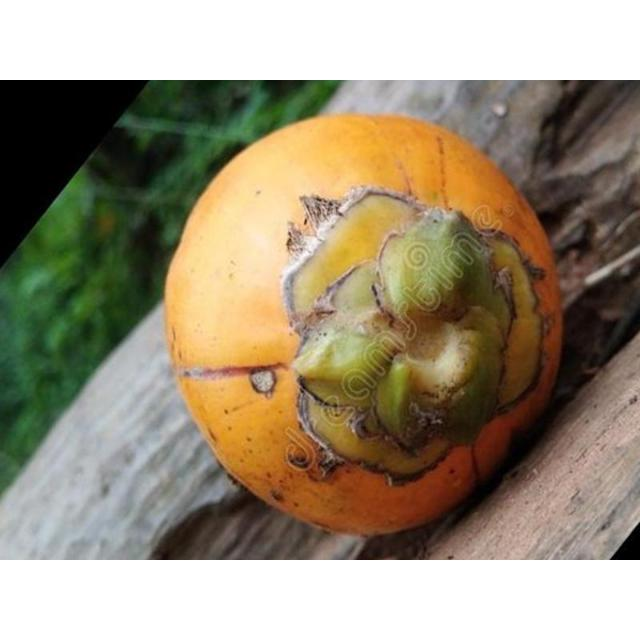good: (164, 114, 563, 545)
